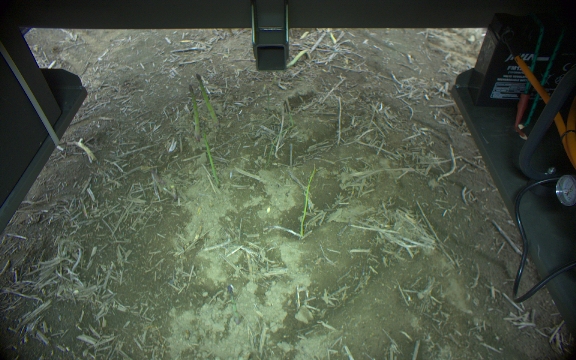aspa: (195, 72, 220, 127), (201, 132, 220, 187), (187, 84, 200, 140), (227, 285, 238, 323)
